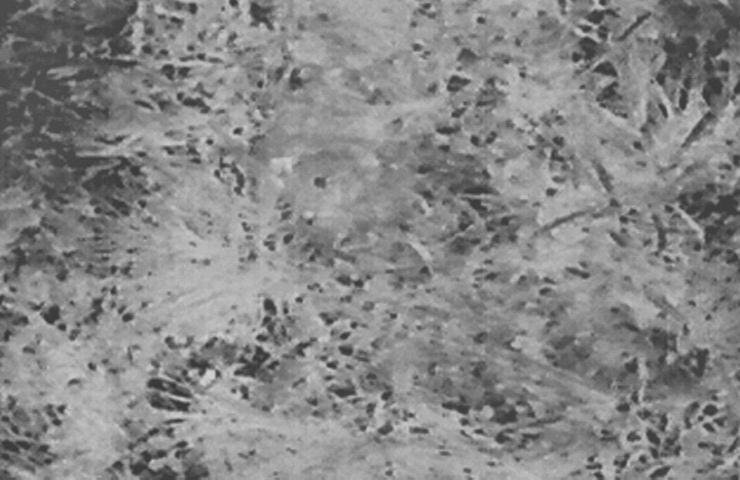landmines: (280, 140, 379, 228)
